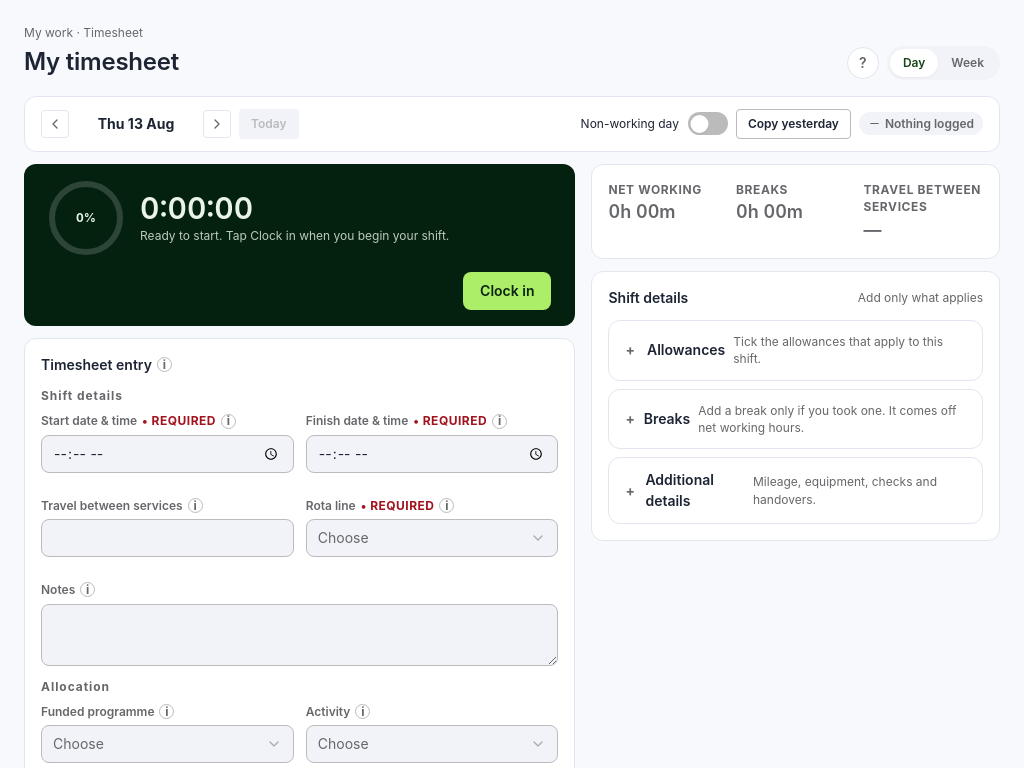
My timesheet, Fill from rota › a week still in draft on the rota has nothing to fill and no rota’d hours
Click the button "Week" at (968, 63), box top-left (938, 49), bottom-right (997, 77)
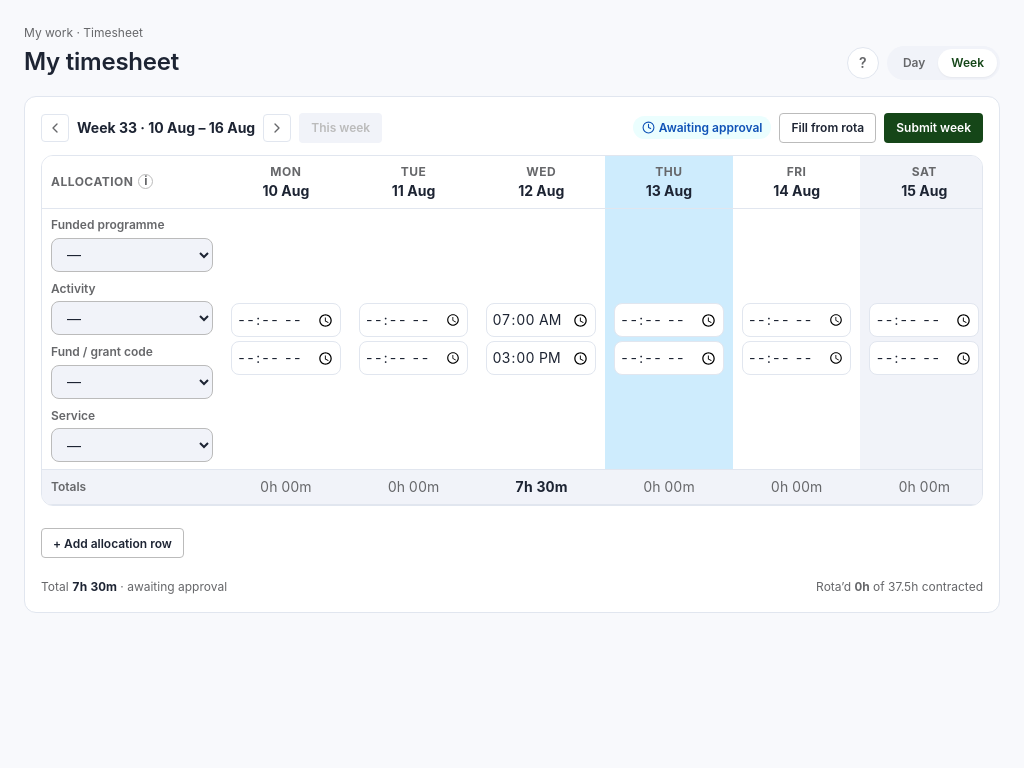
Now the element with test id "ts-contracted" reads "Rota’d 0h of 37.5h contracted", box top-left (816, 578), bottom-right (983, 596)
Click the button with test id "ts-fill-rota" at (828, 128), box top-left (779, 113), bottom-right (876, 143)
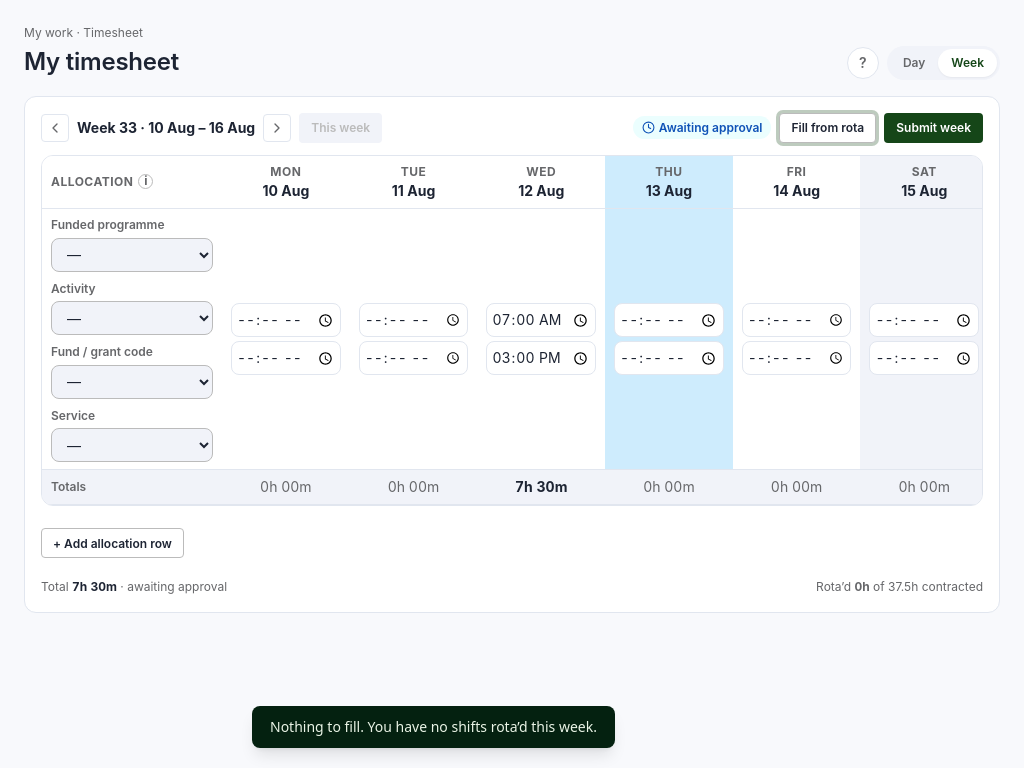
Now the message with test id "toast-info" reads "Nothing to fill. You have no shifts rota’d this week.", box top-left (270, 717), bottom-right (597, 736)
